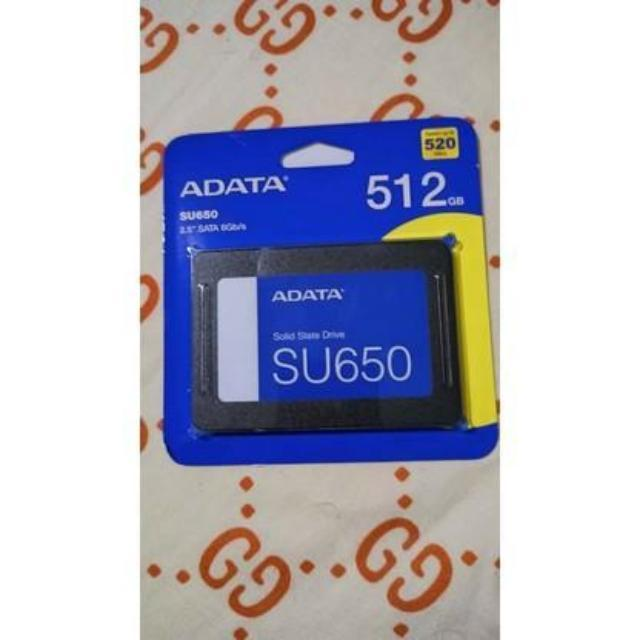DISK: (192, 240, 464, 431)
